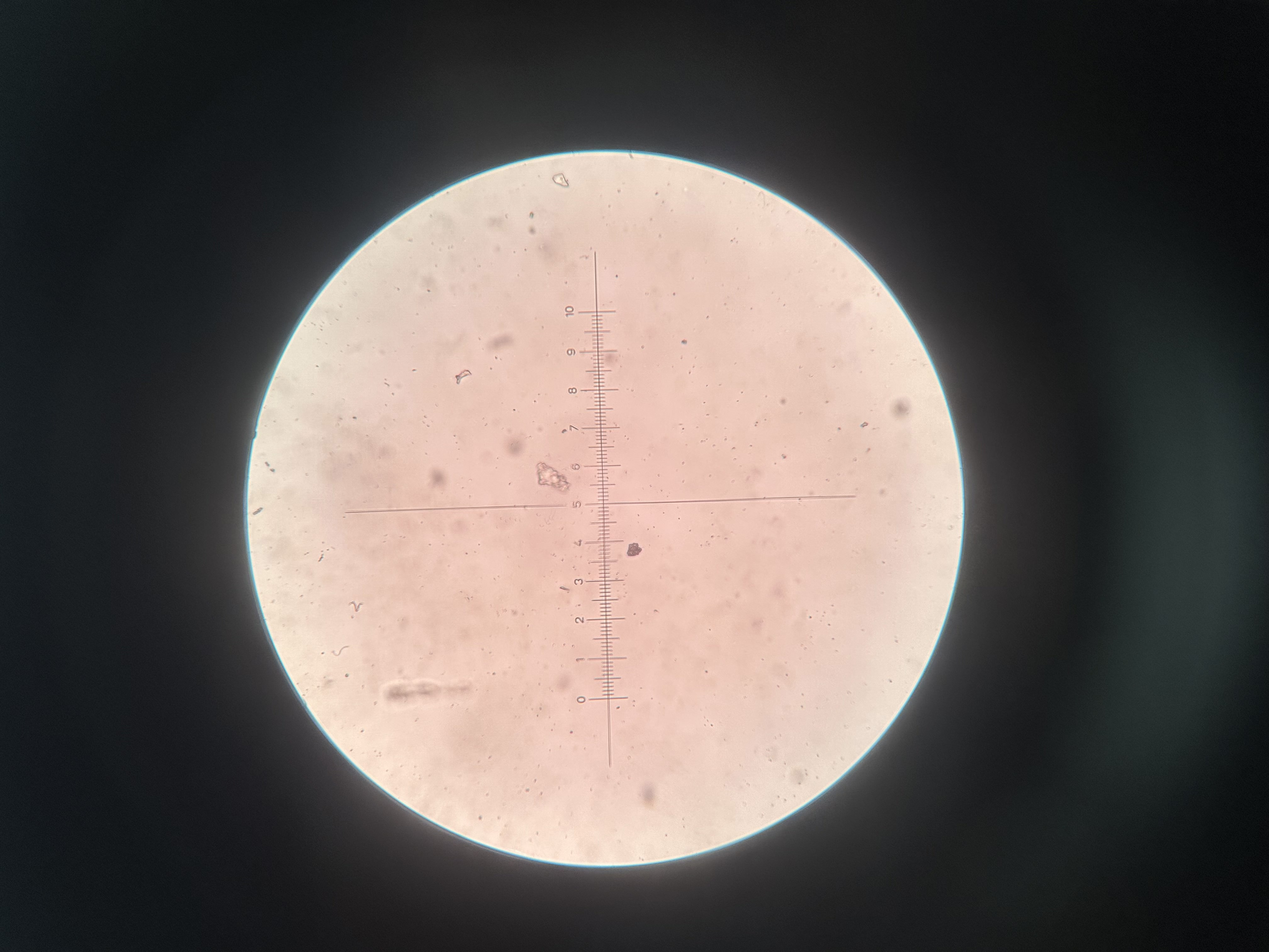not_microplastic: (382, 681, 473, 701), (535, 459, 576, 496), (551, 171, 570, 188), (453, 369, 472, 386), (625, 542, 644, 556)
